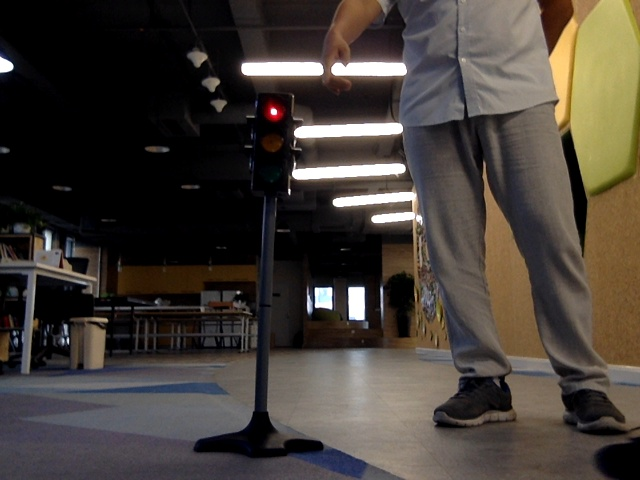red: (254, 95, 288, 190)
